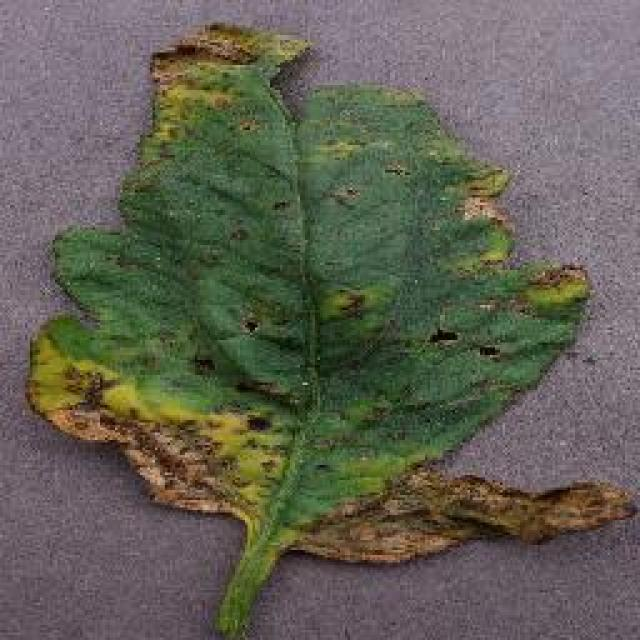Tomato bacterial spot leaf: (40, 28, 622, 622)
